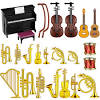Piano: (1, 3, 43, 44)
Saxophone: (40, 67, 63, 100)
